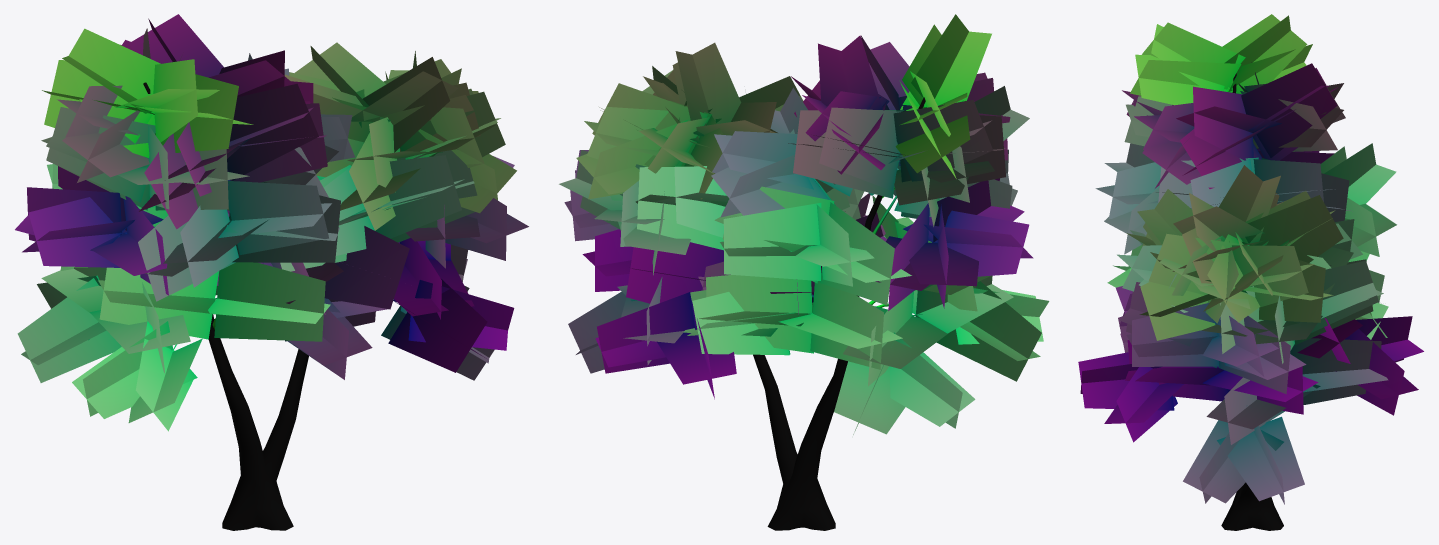
File: Tree_4_6.fbx
The picture shows the model from 3 angles, left to right: view 1: azimuth 30°, elevation 25°; view 2: azimuth 150°, elevation 25°; view 3: azimuth 270°, elevation 25°; orthographic projection. The views are drawn at different scales.
Visible parts, largest first — view 1: _6; view 2: _6; view 3: _6.
Part boxes in pixels (bbox=[...]): _6: bbox=[15, 14, 528, 530]; _6: bbox=[559, 14, 1049, 530]; _6: bbox=[1078, 14, 1423, 530].
Size of the model in its own units: 2386 by 2495 by 1733.
